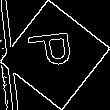P_E: (28, 34, 82, 76)
